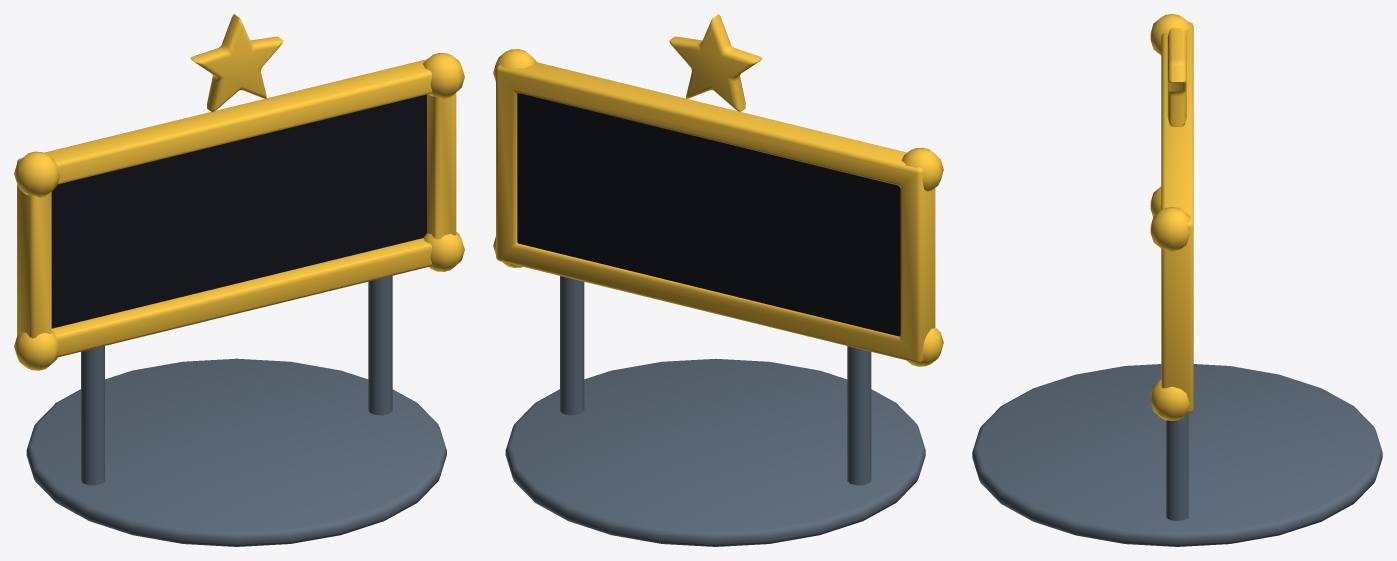
File: MarcoDestacado.fbx
The picture shows the model from 3 angles, left to right: view 1: azimuth 30°, elevation 25°; view 2: azimuth 150°, elevation 25°; view 3: azimuth 270°, elevation 25°; orthographic projection. The views are drawn at different scales.
Parts seen in each view (by area): view 1: MarcoDestacado_Soporte, MarcoDestacado_Placa, MarcoDestacado_Marco; view 2: MarcoDestacado_Soporte, MarcoDestacado_Placa, MarcoDestacado_Marco; view 3: MarcoDestacado_Soporte, MarcoDestacado_Marco.
Boxes of the visible parts, x1,y1,x2,y2 form: MarcoDestacado_Soporte: [26, 276, 446, 546]; MarcoDestacado_Placa: [51, 94, 426, 328]; MarcoDestacado_Marco: [14, 14, 464, 370]; MarcoDestacado_Soporte: [505, 276, 925, 546]; MarcoDestacado_Placa: [517, 93, 900, 336]; MarcoDestacado_Marco: [493, 14, 943, 366]; MarcoDestacado_Soporte: [972, 364, 1382, 546]; MarcoDestacado_Marco: [1150, 14, 1193, 420].
Size of the model in its own units: 9.29 by 8.87 by 7.6.
